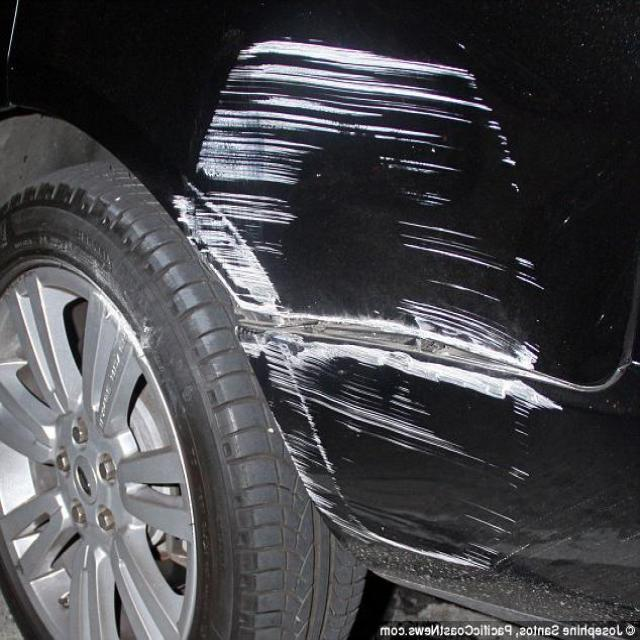scratch: (182, 26, 583, 608)
